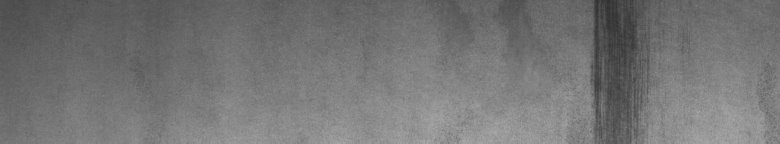ka: (580, 4, 652, 136)
